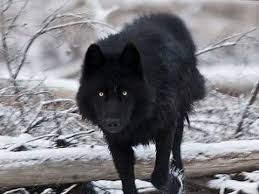Lobo: (66, 17, 222, 190)
